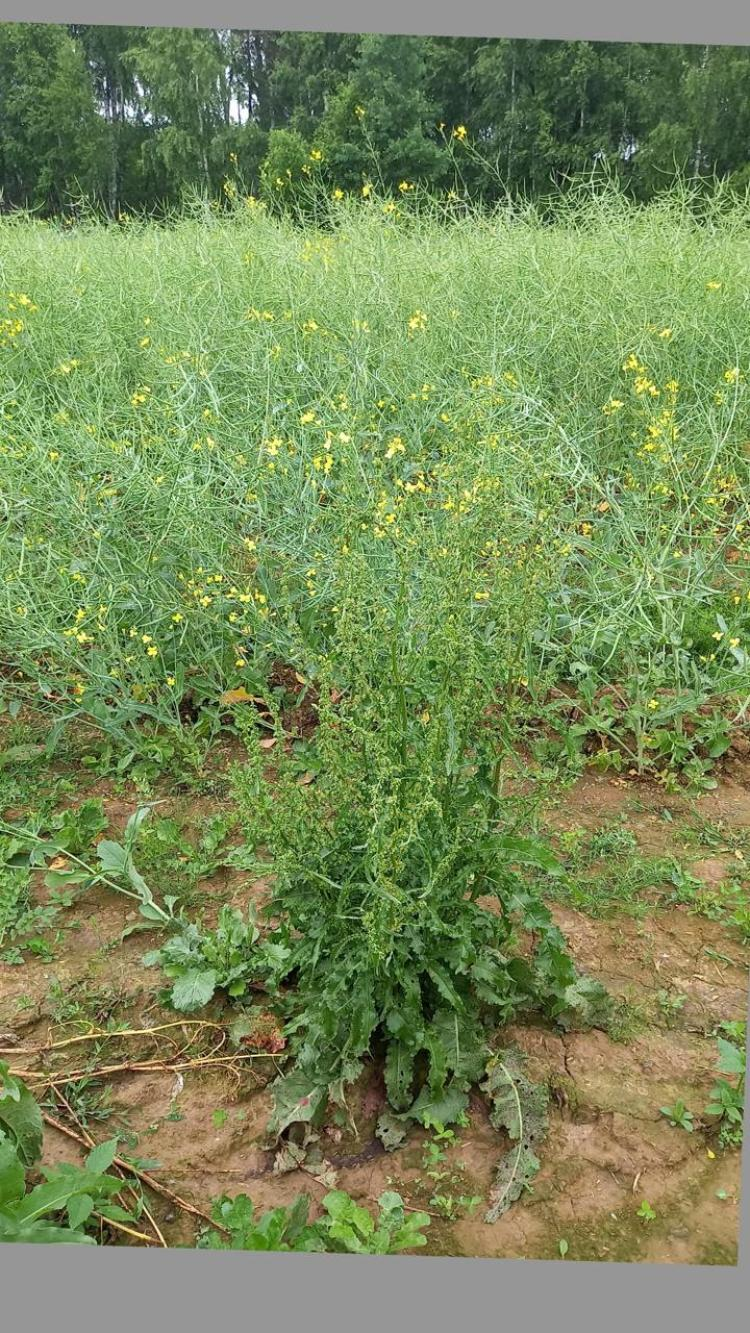zhavel: (152, 543, 606, 1224)
